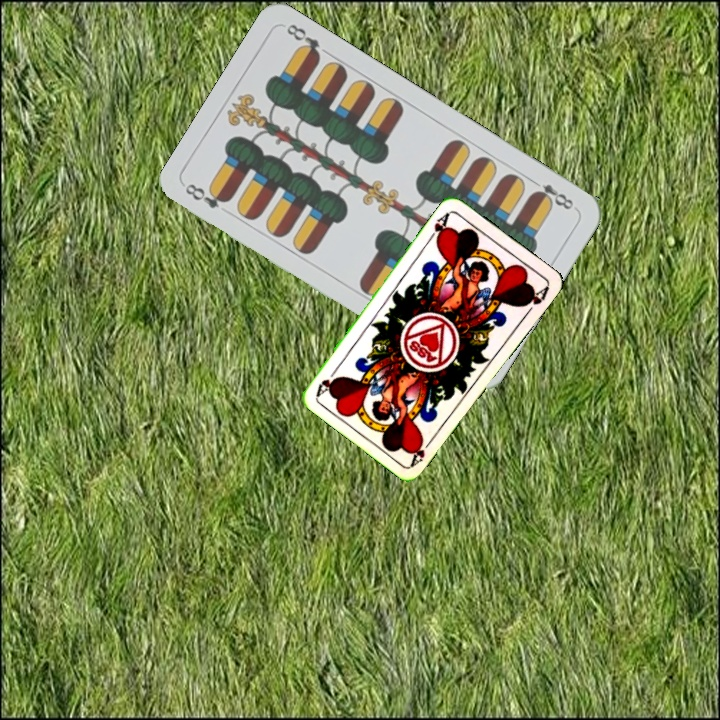E8: (526, 175, 577, 213), (181, 179, 233, 211)
HA: (407, 433, 437, 469), (424, 208, 453, 245)
